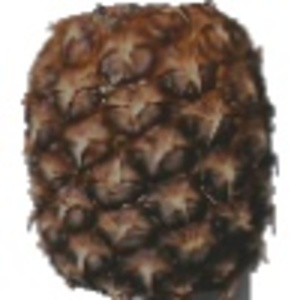abacaxi: (15, 2, 282, 293)
